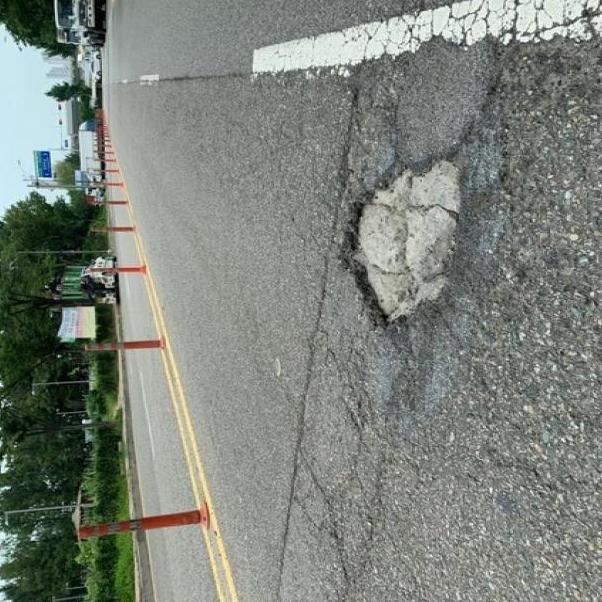pothole: (319, 140, 478, 330)
